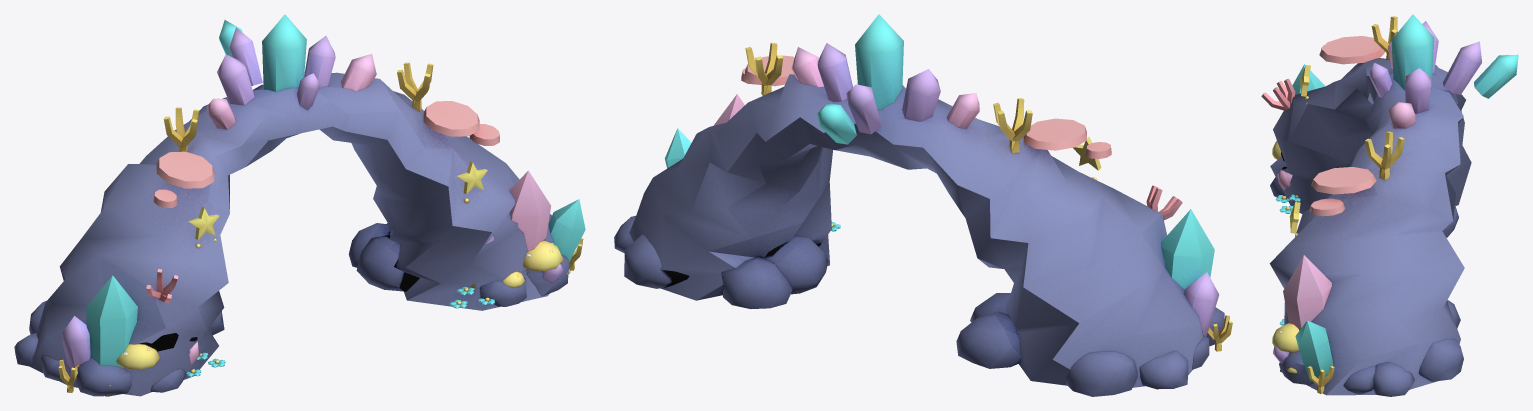
File: MB_LM_CrystalArch_v2.fbx
3 views of the same model, side by side, from view 1: azimuth 30°, elevation 25°; view 2: azimuth 150°, elevation 25°; view 3: azimuth 270°, elevation 25° (orthographic). The views are drawn at different scales.
Parts seen in each view (by area): view 1: Rock, Crystals, Decor, Glow; view 2: Rock, Crystals, Decor; view 3: Rock, Crystals, Decor, Glow.
Part boxes in pixels (x1,y1,x2,y2): Rock: (14,72,570,396); Crystals: (61,14,585,379); Decor: (58,62,583,396); Glow: (109,161,570,386); Rock: (614,74,1224,396); Crystals: (664,14,1219,336); Decor: (741,42,1232,351); Rock: (1269,58,1471,396); Crystals: (1273,14,1518,383); Decor: (1261,16,1404,393); Glow: (1272,65,1310,373).
Size of the model in its own units: 15023 by 7686 by 6635.
Materials: 1 (1 with a texture image).
